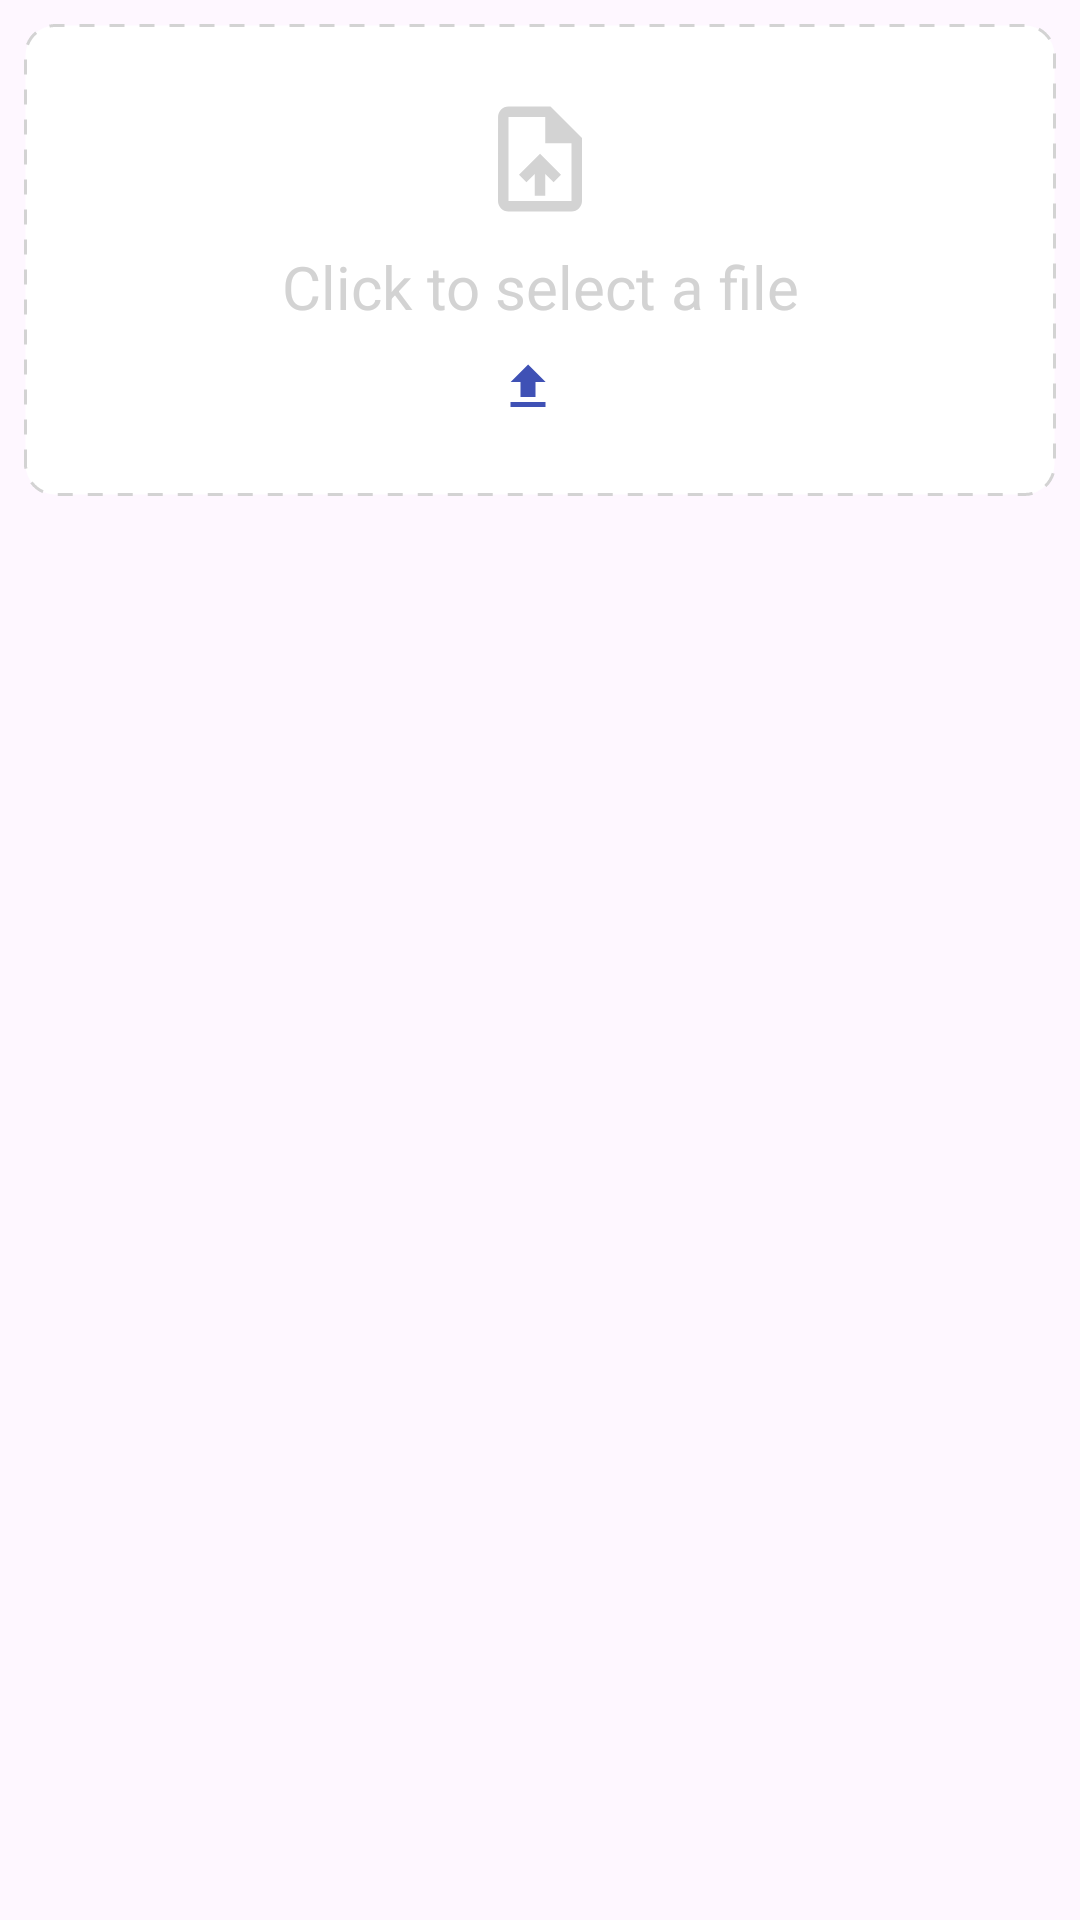

Named icons in this screenshot (1080x1920) and their centers, [x,y]:
file upload: [528,385]
upload file: [540,159]
